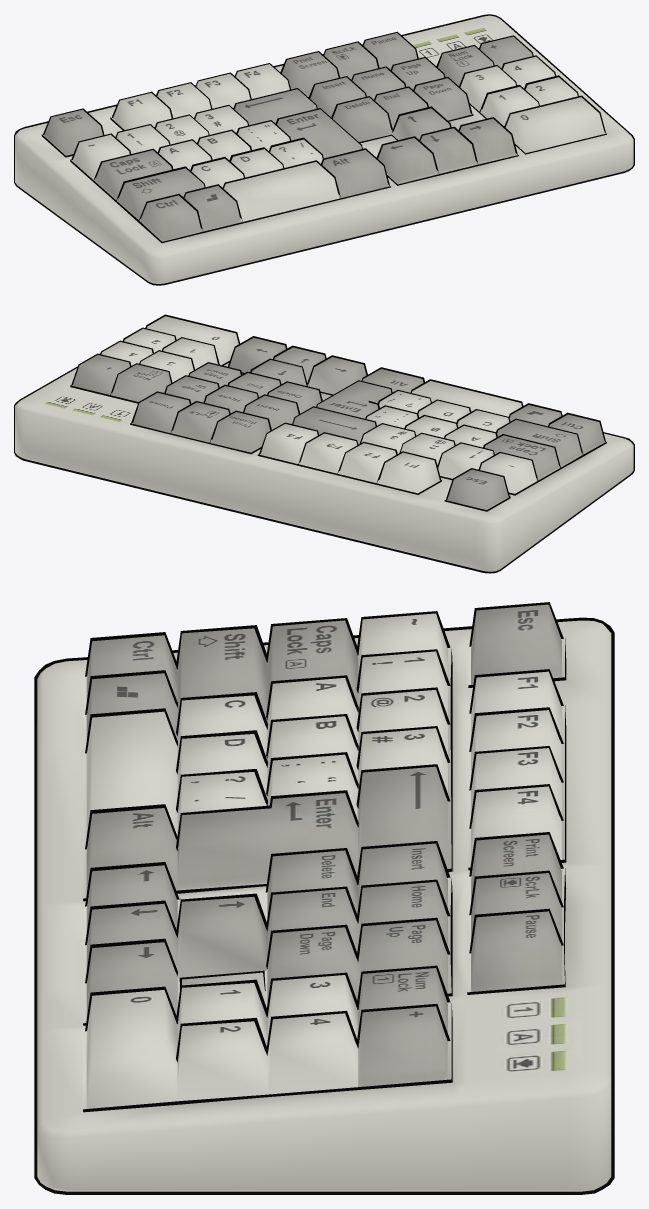
File: illustration-transformed.glb
3 views of the same model, one above another, from view 1: azimuth 30°, elevation 25°; view 2: azimuth 150°, elevation 25°; view 3: azimuth 270°, elevation 25° (orthographic). The views are drawn at different scales.
Parts seen in each view (by area): view 1: LP_keyboard_0, LP_outline_0; view 2: LP_keyboard_0, LP_outline_0; view 3: LP_keyboard_0, LP_outline_0.
Part boxes in pixels (x1,y1,x2,y2): LP_keyboard_0: (15, 15, 633, 283); LP_outline_0: (14, 14, 634, 285); LP_keyboard_0: (15, 316, 633, 571); LP_outline_0: (14, 314, 634, 573); LP_keyboard_0: (37, 604, 611, 1191); LP_outline_0: (34, 602, 614, 1194).
Size of the model in its own units: 248 by 35.44 by 128.
2 materials, 1 textured.
